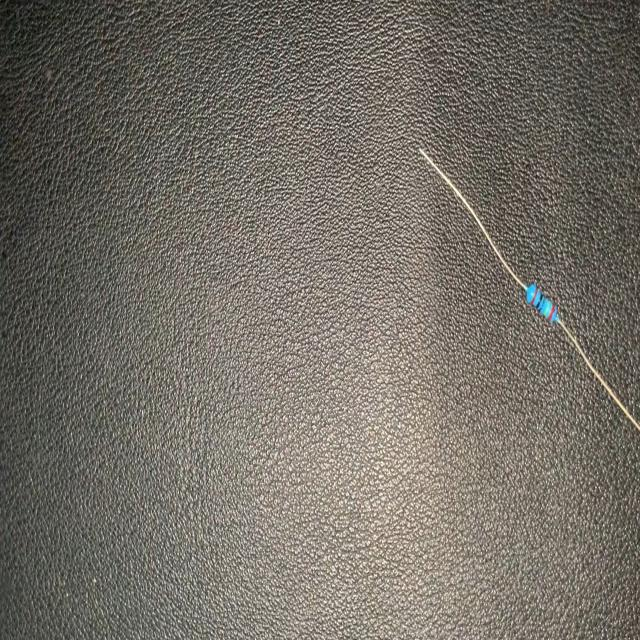resistor: (407, 136, 640, 436)
